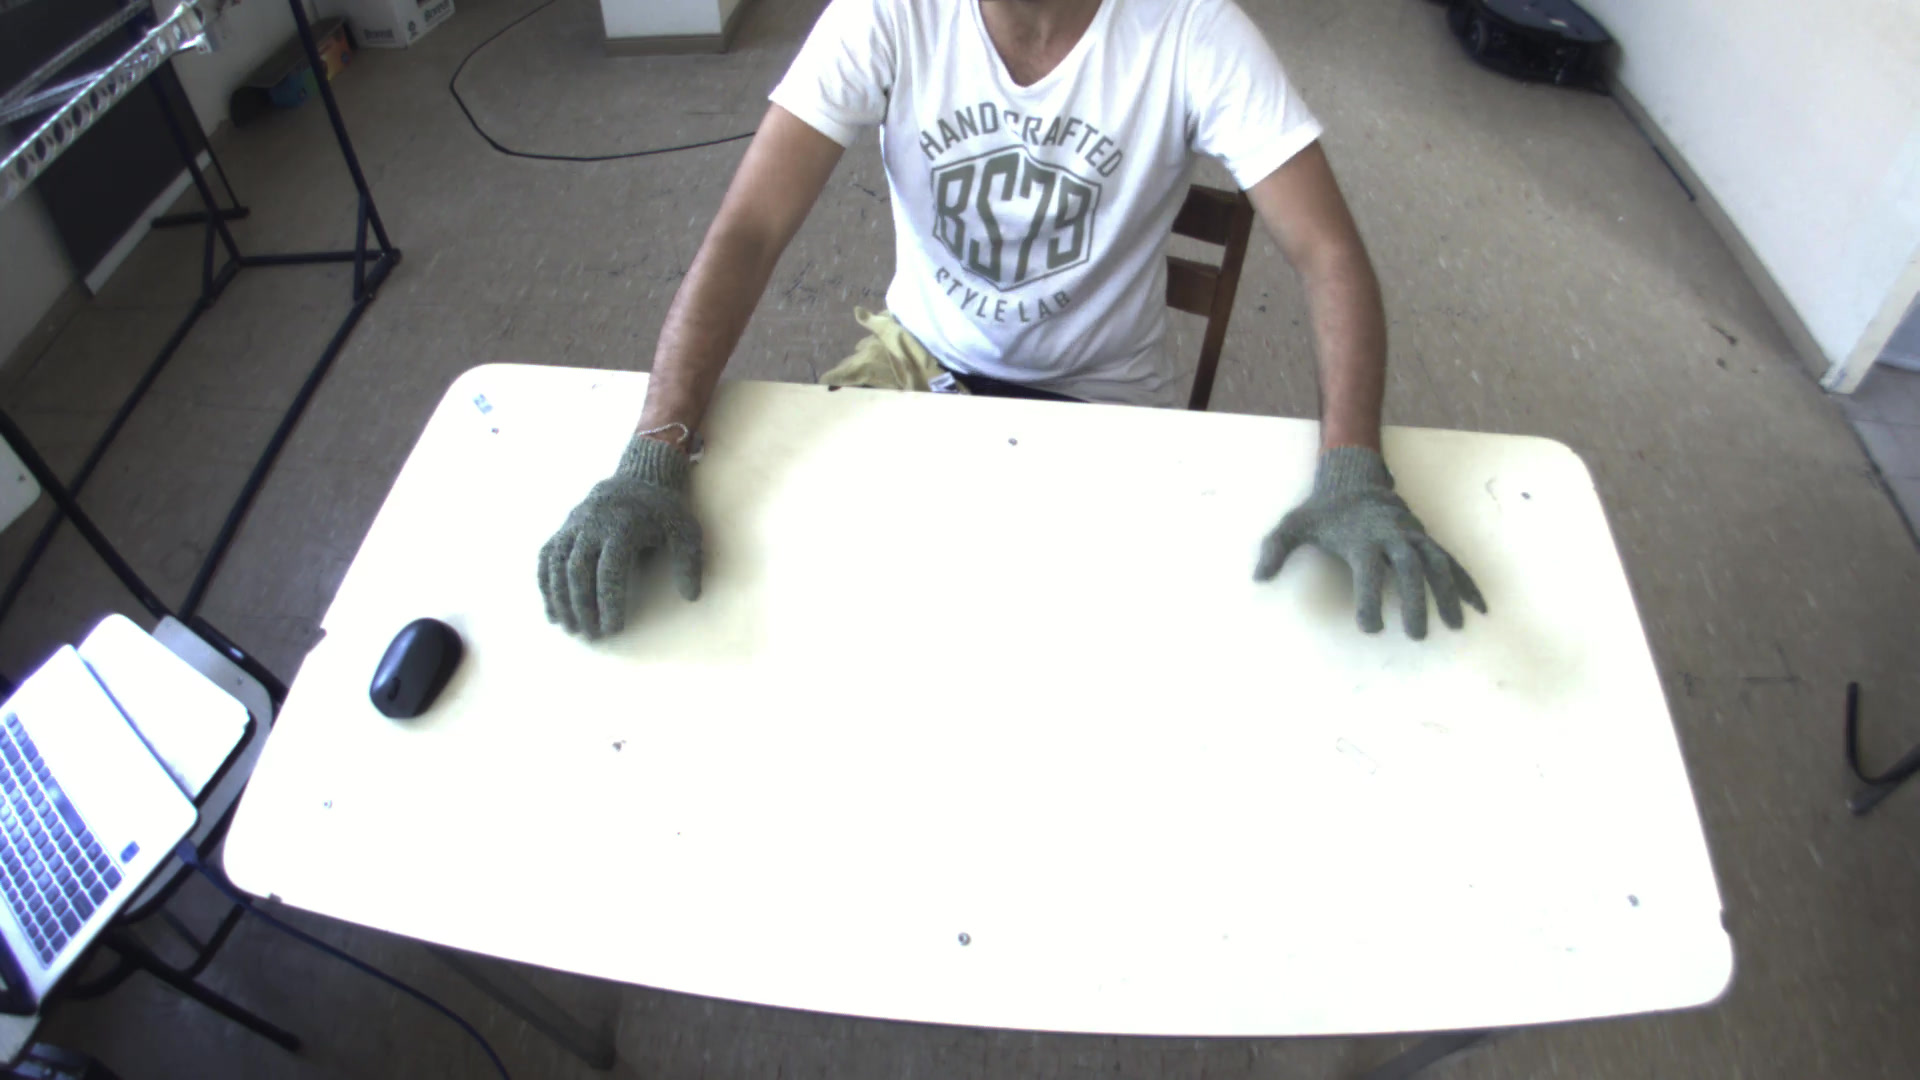hand: (1249, 426, 1501, 649), (521, 411, 716, 644)
